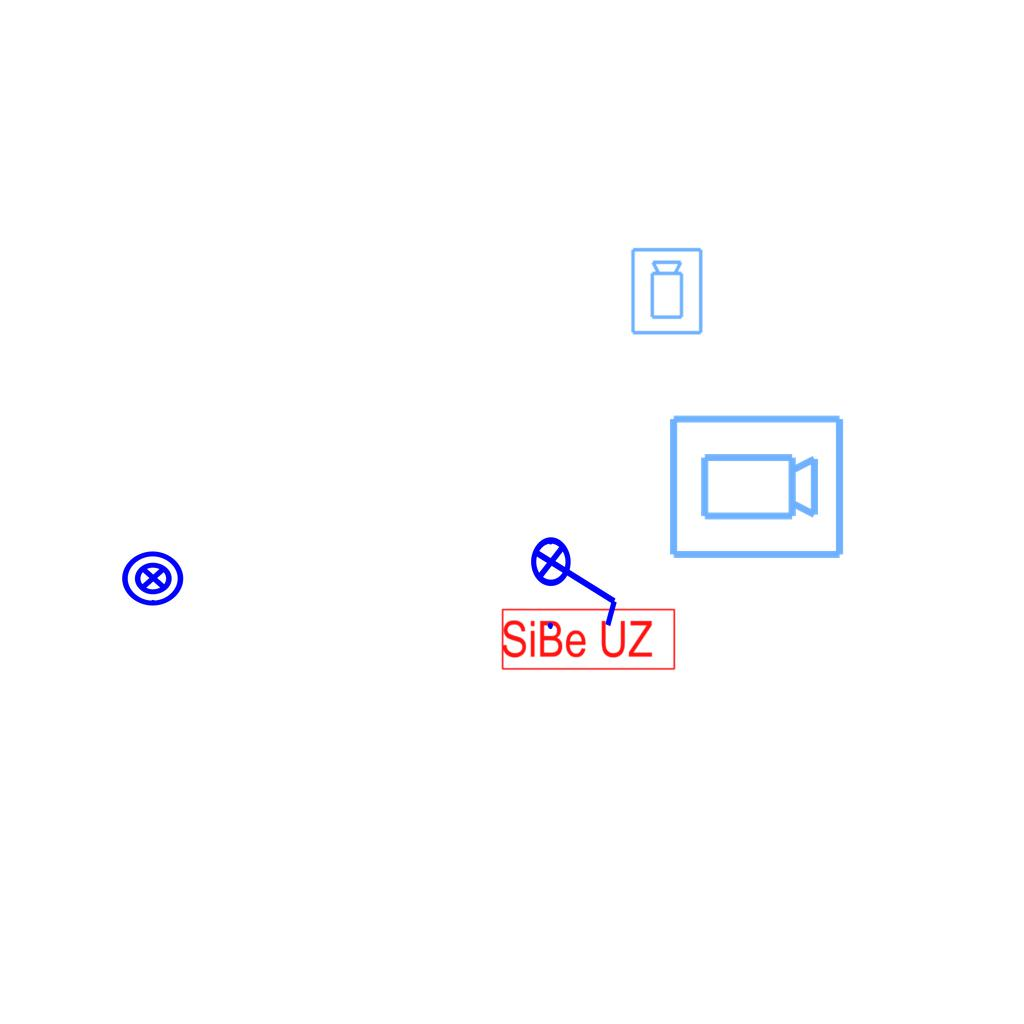Ausschalter_beleuchtet: (529, 523, 625, 635)
KFO_Kamera_mit_Festobjektiv: (665, 411, 847, 565), (629, 246, 706, 337)
Taster_beleuchtet: (120, 545, 186, 611)
Zentrale_Sicherheitsbeleuchtung: (500, 607, 678, 672)
